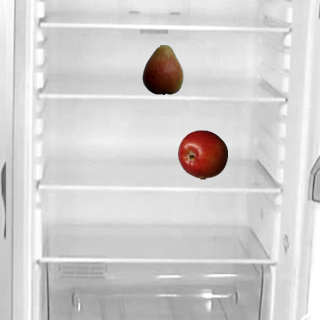Apple Braeburn: (177, 129, 227, 179)
Pear Forelle: (137, 44, 187, 94)
